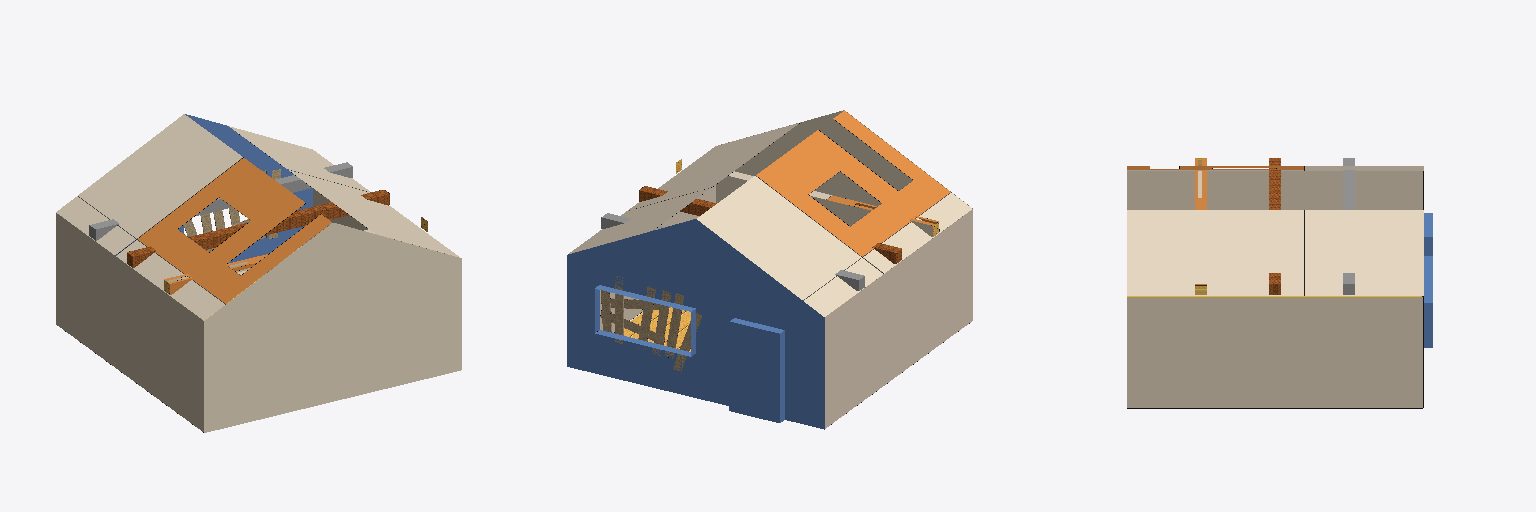
3 renders of one model, left to right at view 1: azimuth 30°, elevation 25°; view 2: azimuth 150°, elevation 25°; view 3: azimuth 270°, elevation 25°, orthographic.
Parts seen in each view (by area): view 1: Back_Plane.013, Roof_Plane.001, Wall_2_Plane.010, Front_Plane.012, Beam_1_Plane.003, Beam_2_Plane.004, Beam_3_Plane.005; view 2: Front_Plane.012, Roof_Plane.001, Wall_2_Plane.010, Back_Plane.013, Beam_3_Plane.005, Beam_1_Plane.003, Wall_1_Plane.010, Floor_Plane.008, Beam_2_Plane.004; view 3: Wall_1_Plane.010, Roof_Plane.001, Wall_2_Plane.010, Front_Plane.012, Beam_1_Plane.003, Beam_2_Plane.004, Beam_3_Plane.005.
Part boxes in pixels (bbox=[...]): Back_Plane.013: bbox=[204, 223, 461, 432]; Roof_Plane.001: bbox=[56, 114, 459, 320]; Wall_2_Plane.010: bbox=[56, 213, 203, 432]; Front_Plane.012: bbox=[61, 114, 312, 290]; Beam_1_Plane.003: bbox=[127, 190, 389, 267]; Beam_2_Plane.004: bbox=[89, 162, 352, 240]; Beam_3_Plane.005: bbox=[164, 217, 427, 294]; Front_Plane.012: bbox=[567, 219, 824, 429]; Roof_Plane.001: bbox=[569, 110, 971, 316]; Wall_2_Plane.010: bbox=[825, 209, 972, 428]; Back_Plane.013: bbox=[716, 110, 972, 290]; Beam_3_Plane.005: bbox=[676, 159, 939, 236]; Beam_1_Plane.003: bbox=[639, 186, 901, 263]; Wall_1_Plane.010: bbox=[600, 185, 715, 332]; Floor_Plane.008: bbox=[614, 298, 850, 351]; Beam_2_Plane.004: bbox=[601, 213, 864, 290]; Wall_1_Plane.010: bbox=[1127, 296, 1423, 408]; Roof_Plane.001: bbox=[1127, 166, 1423, 295]; Wall_2_Plane.010: bbox=[1127, 171, 1423, 209]; Front_Plane.012: bbox=[1424, 213, 1432, 347]; Beam_1_Plane.003: bbox=[1269, 158, 1280, 294]; Beam_2_Plane.004: bbox=[1343, 158, 1354, 294]; Beam_3_Plane.005: bbox=[1195, 158, 1206, 294].
Size of the model in its own units: 6.01 by 4 by 6.2.
Materials: 8 (7 with a texture image).